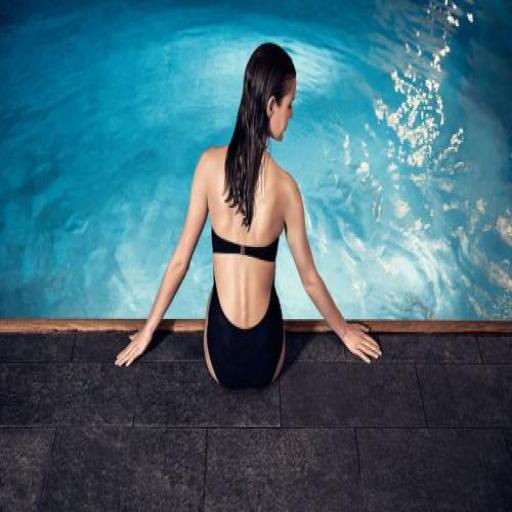swimming: (113, 39, 383, 393)
